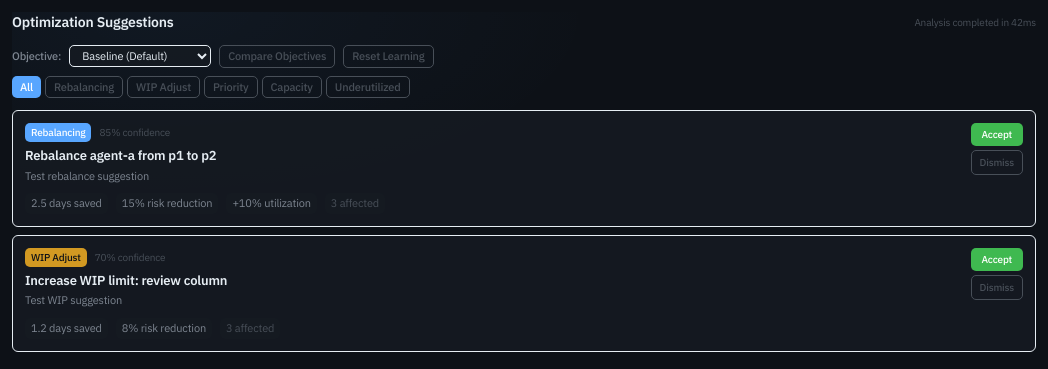
OptimizationPanel — objective & comparison › fetches objective scenario when objective selected
The image size is (1048, 369).
Expected: the heading "Rebalance agent-a from p1 to p2" is shown, [25,147,216,164]
Select "Minimize Time" in the dropdown named "Select optimization objective" at (140, 56), box [69,45,211,67]
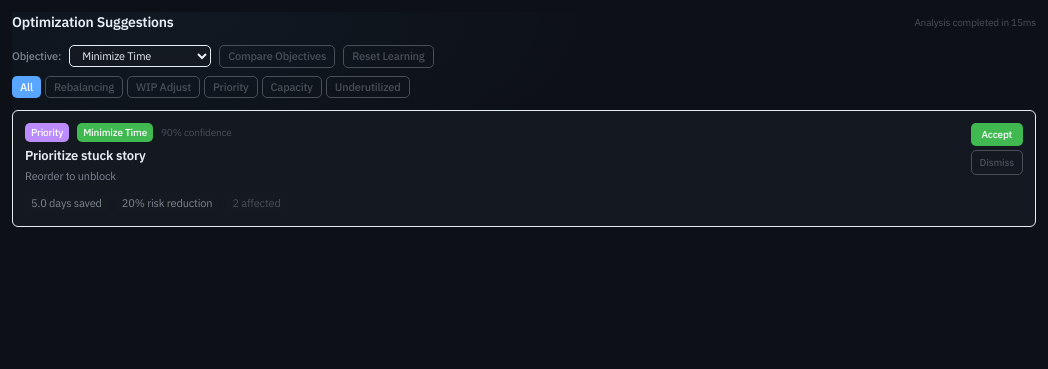
Now the heading "Prioritize stuck story" is shown, box [25,147,146,164]
